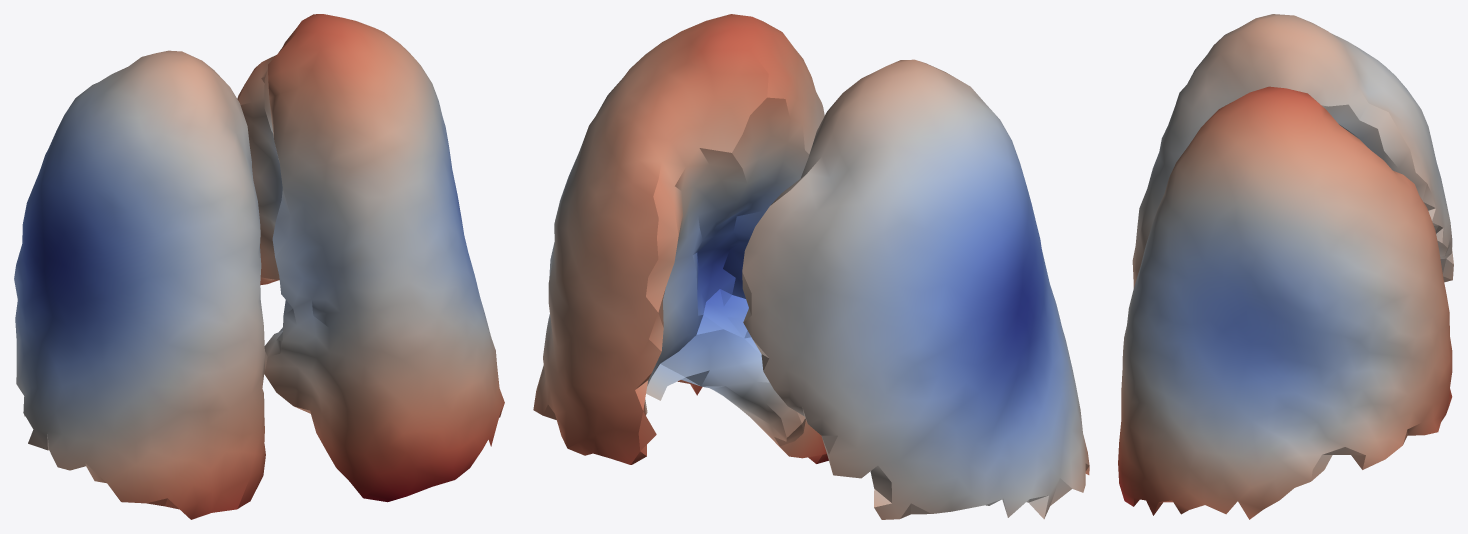
File: Lungs_LL_Inverted_RL_NonInverted.glb
3 views of the same model, side by side, from view 1: azimuth 30°, elevation 25°; view 2: azimuth 150°, elevation 25°; view 3: azimuth 270°, elevation 25° (orthographic). The views are drawn at different scales.
Visible parts, largest first — view 1: LungS_Inverted_LL; view 2: LungS_Inverted_LL; view 3: LungS_Inverted_LL.
Part boxes in pixels (left/top/right/bottom): LungS_Inverted_LL: left=14, top=14, right=504, bottom=519; LungS_Inverted_LL: left=533, top=14, right=1089, bottom=519; LungS_Inverted_LL: left=1118, top=14, right=1453, bottom=519.
Size of the model in its own units: 2.56 by 2.4 by 1.79.
